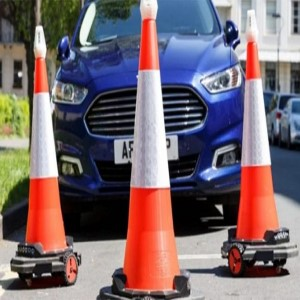traffic cone: (98, 17, 204, 300), (221, 40, 300, 255), (11, 55, 74, 274)
